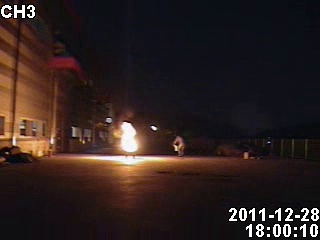fire: (117, 114, 142, 154)
